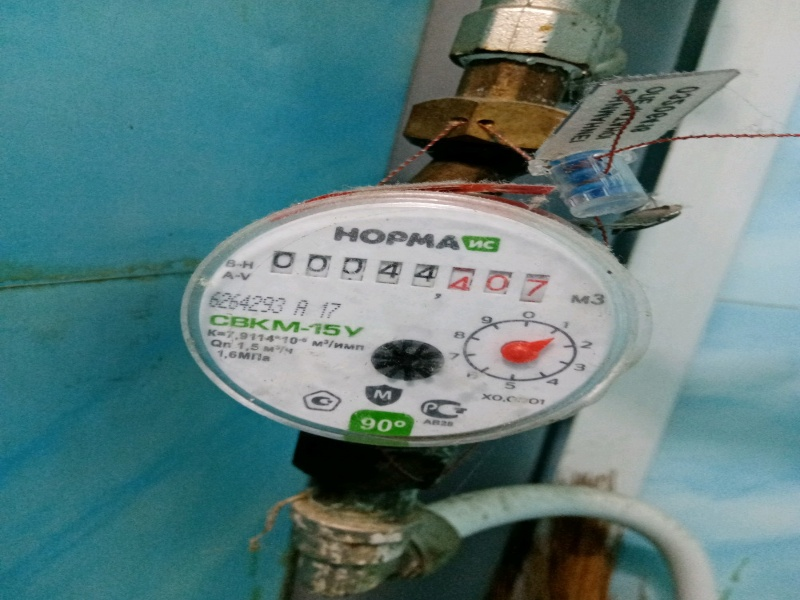meter: (268, 246, 549, 292)
